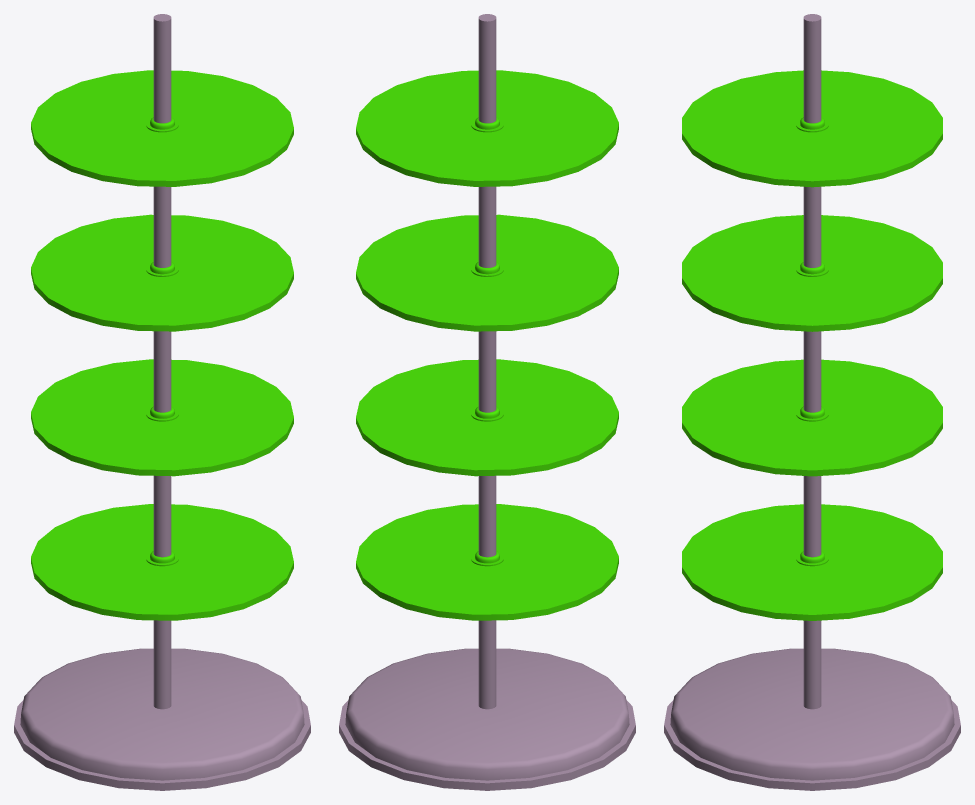
The model's file is Estante 7.fbx.
3 views of the same model, side by side, from view 1: azimuth 30°, elevation 25°; view 2: azimuth 150°, elevation 25°; view 3: azimuth 270°, elevation 25° (orthographic).
Parts seen in each view (by area): view 1: Cylinder006, Cylinder007; view 2: Cylinder006, Cylinder007; view 3: Cylinder006, Cylinder007.
Boxes of the visible parts, box(x1,y1,x2,y2) form: Cylinder006: box(31, 70, 293, 620); Cylinder007: box(14, 14, 310, 790); Cylinder006: box(356, 70, 618, 620); Cylinder007: box(339, 14, 635, 790); Cylinder006: box(682, 70, 942, 620); Cylinder007: box(664, 14, 960, 790).
Size of the model in its own units: 9.87 by 26.13 by 9.9.
